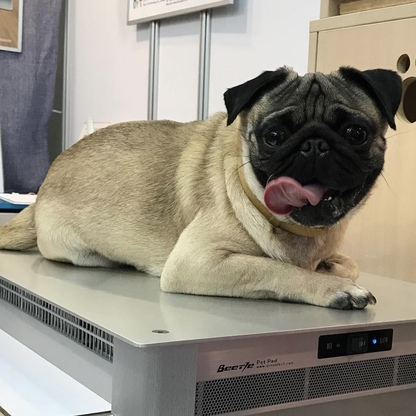Pug: (1, 55, 405, 314)
